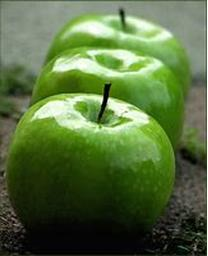apple: (4, 89, 175, 234), (28, 47, 184, 151), (45, 7, 191, 109)
